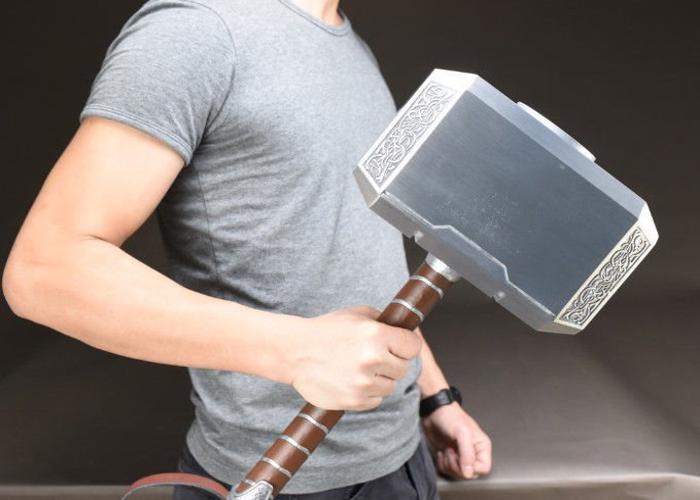THOR Hammer: (260, 51, 660, 491)
